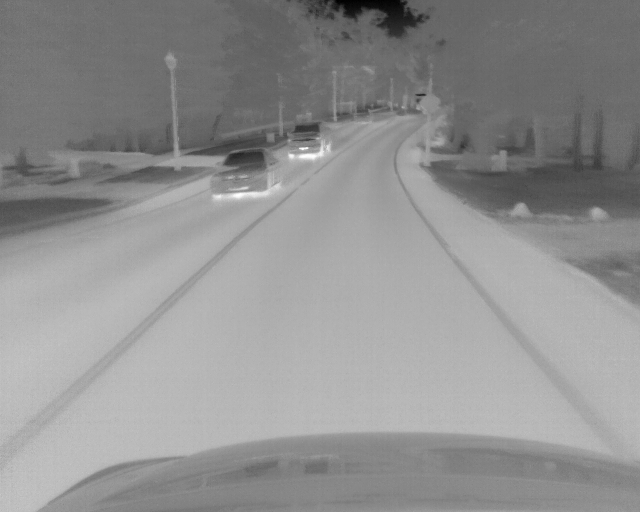car: (209, 147, 284, 202), (285, 121, 333, 161)
